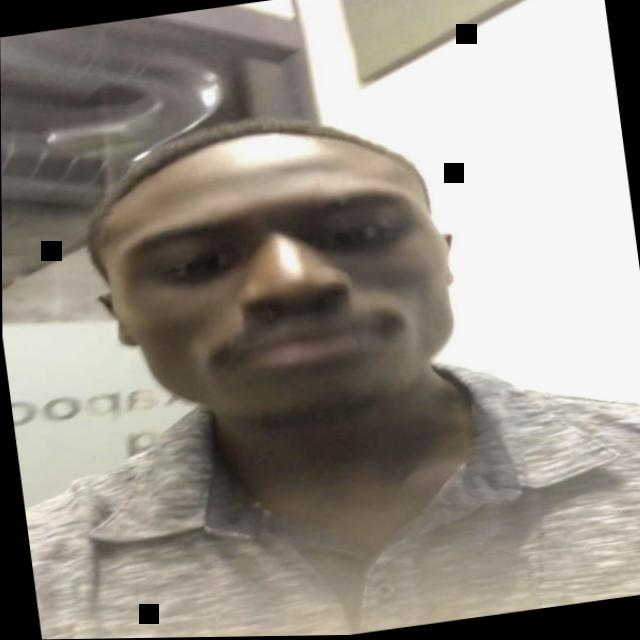NO-Mask: (84, 163, 470, 448)
